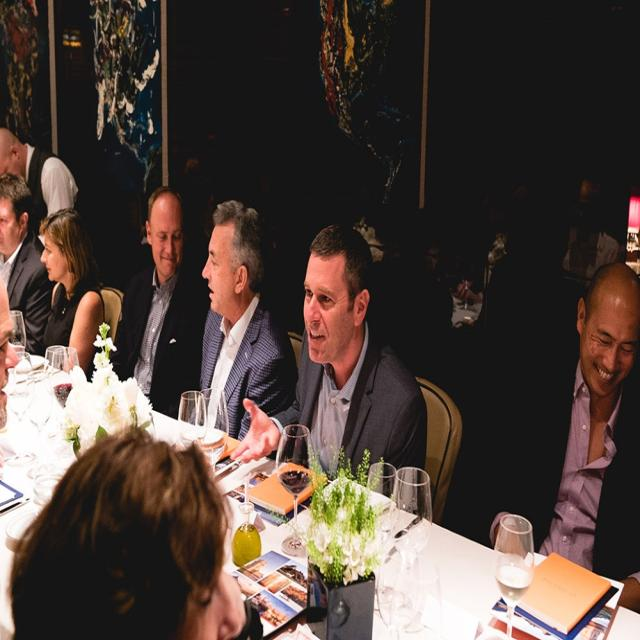body: (225, 221, 431, 523), (482, 253, 640, 616), (7, 418, 254, 640), (187, 205, 298, 461), (108, 184, 209, 420), (36, 204, 107, 383), (0, 125, 99, 250), (0, 169, 56, 361), (448, 236, 502, 326), (1, 271, 20, 442)
